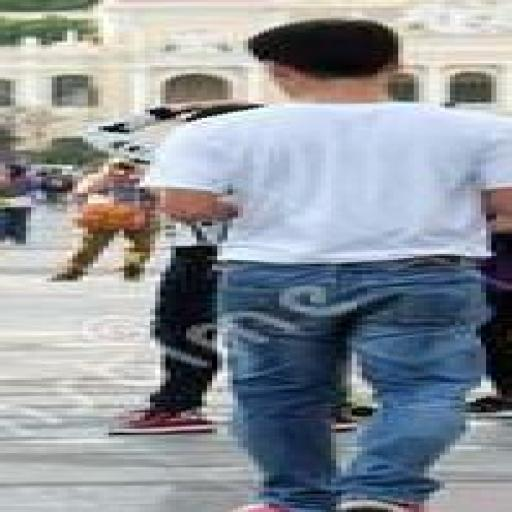person: (145, 19, 511, 511), (109, 222, 227, 434), (52, 159, 160, 280), (471, 220, 511, 418), (0, 163, 36, 245)
